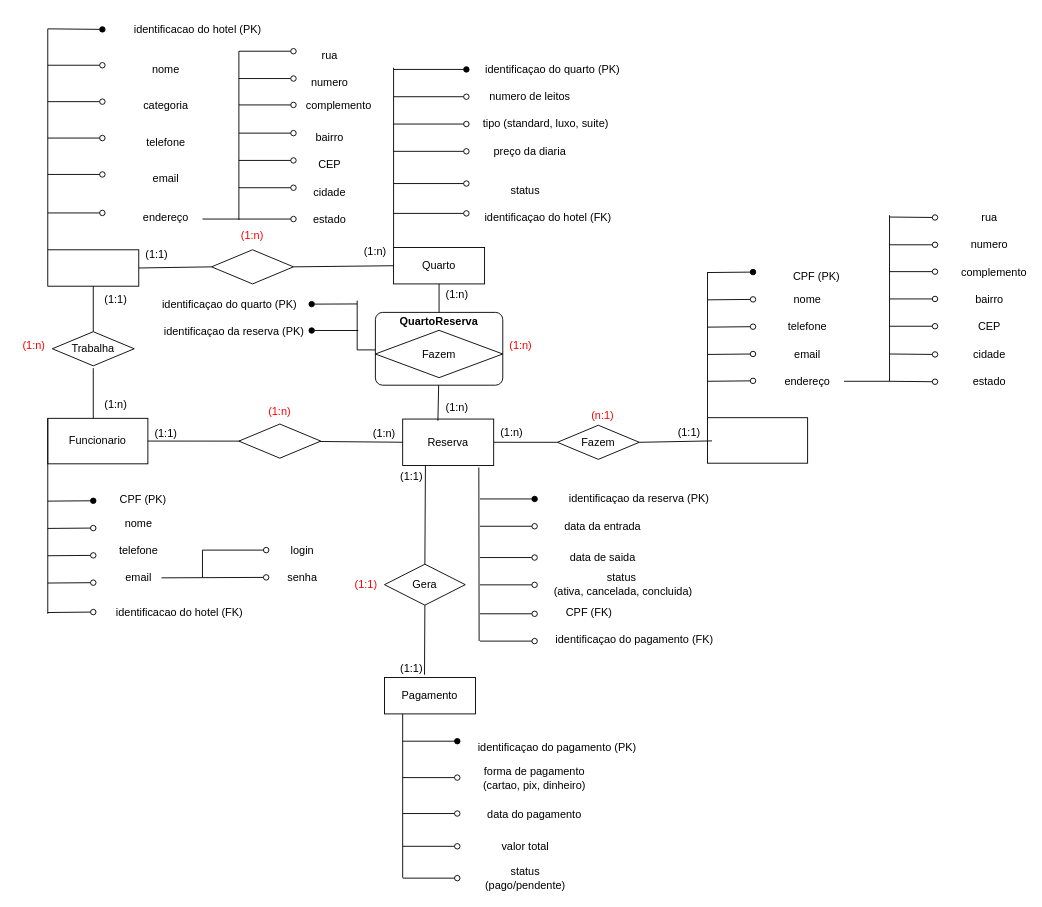
Image size: 1042x907. Some labels were removed from this diagram. The shapes that lost their labels are listed below. From the top down, each one's centre as x and y in pixels, then its label:
At (93,267): "Hotel".
At (252,266): "Possui".
At (279,440): "Realiza".
At (757,440): "Hospede".
